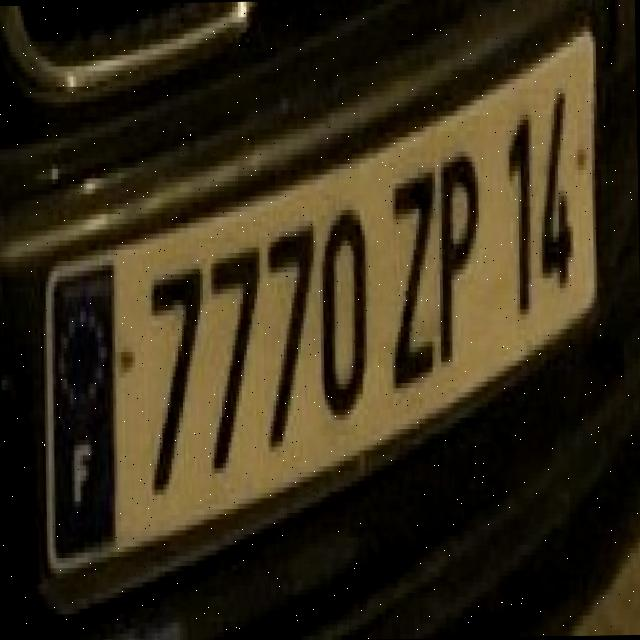EU: (43, 19, 600, 576)
France: (52, 262, 117, 556)
